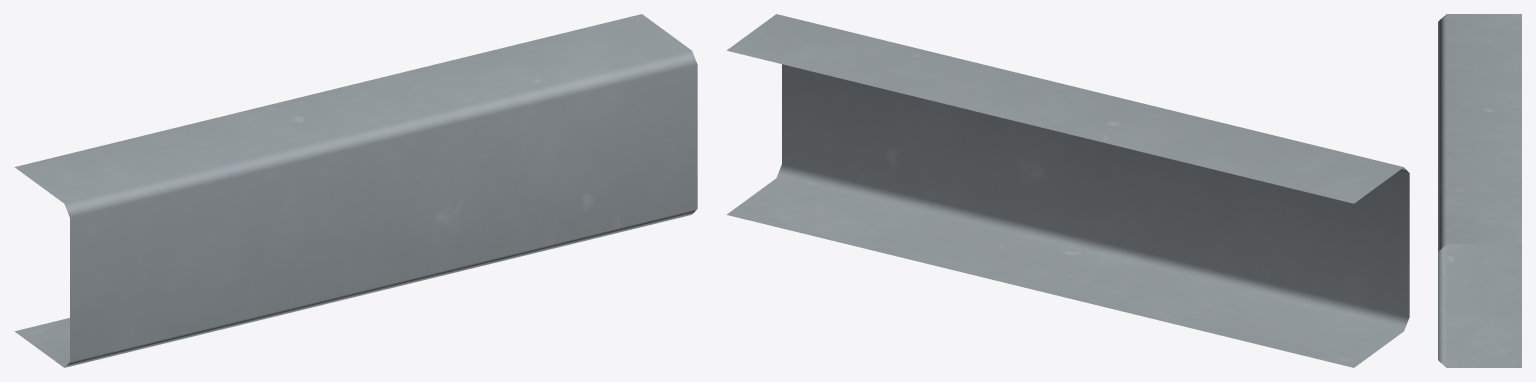
File: ExteriorWallLip.fbx
The picture shows the model from 3 angles, left to right: view 1: azimuth 30°, elevation 25°; view 2: azimuth 150°, elevation 25°; view 3: azimuth 270°, elevation 25°; orthographic projection. The views are drawn at different scales.
Parts seen in each view (by area): view 1: ExteriorWallLip; view 2: ExteriorWallLip; view 3: ExteriorWallLip.
Part boxes in pixels (left/top/right/bottom): ExteriorWallLip: left=14, top=14, right=697, bottom=367; ExteriorWallLip: left=726, top=14, right=1409, bottom=367; ExteriorWallLip: left=1438, top=14, right=1521, bottom=367.
Bounding box in the file's own units: 400 × 100 × 61.39.
1 material, 1 textured.
